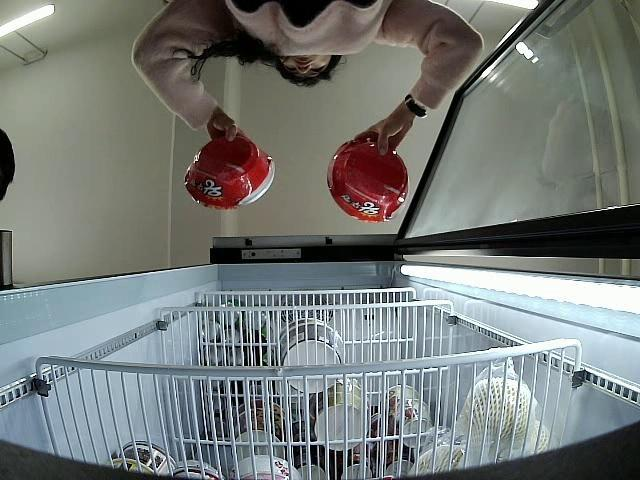10_wangTtukkeong: (182, 138, 276, 211), (329, 138, 410, 222)
